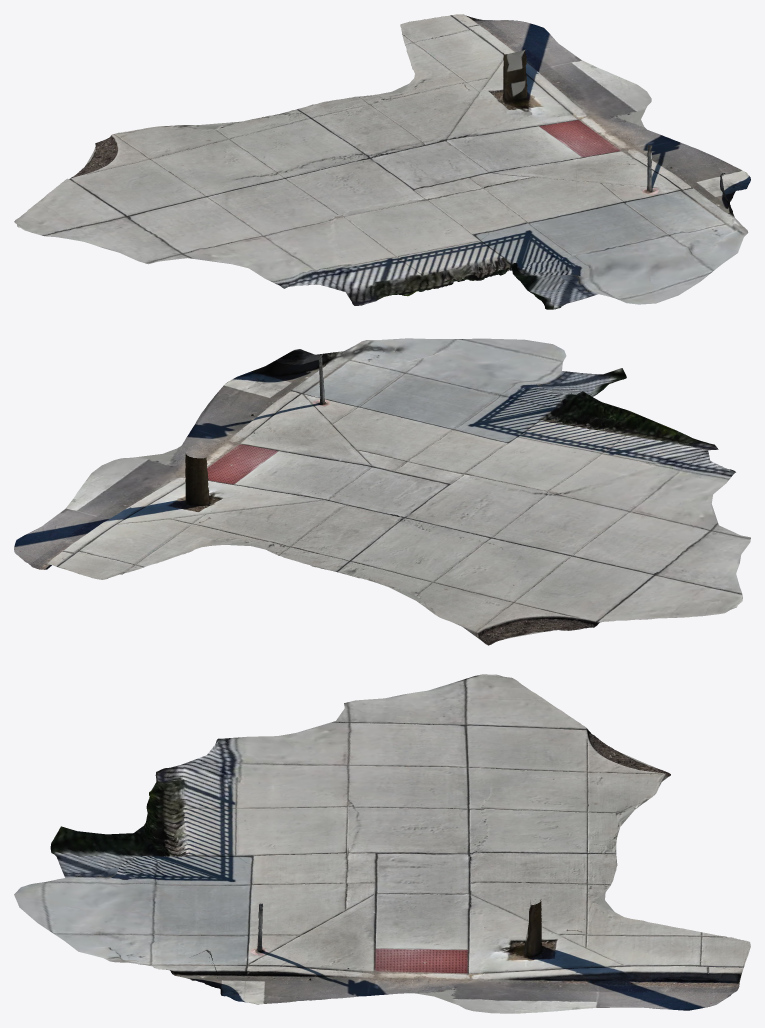
The model's file is hvittmesh-transformed.glb.
3 views of the same model, one above another, from view 1: azimuth 30°, elevation 25°; view 2: azimuth 150°, elevation 25°; view 3: azimuth 270°, elevation 25° (orthographic). The views are drawn at different scales.
Parts seen in each view (by area): view 1: Mesh_0.001; view 2: Mesh_0.001; view 3: Mesh_0.001.
Boxes of the visible parts, x1=… form: Mesh_0.001: x1=14, y1=14, x2=750, y2=309; Mesh_0.001: x1=14, y1=338, x2=750, y2=645; Mesh_0.001: x1=14, y1=674, x2=750, y2=1013.
Size of the model in its own units: 6.64 by 0.5657 by 6.42.
1 material, 1 textured.
